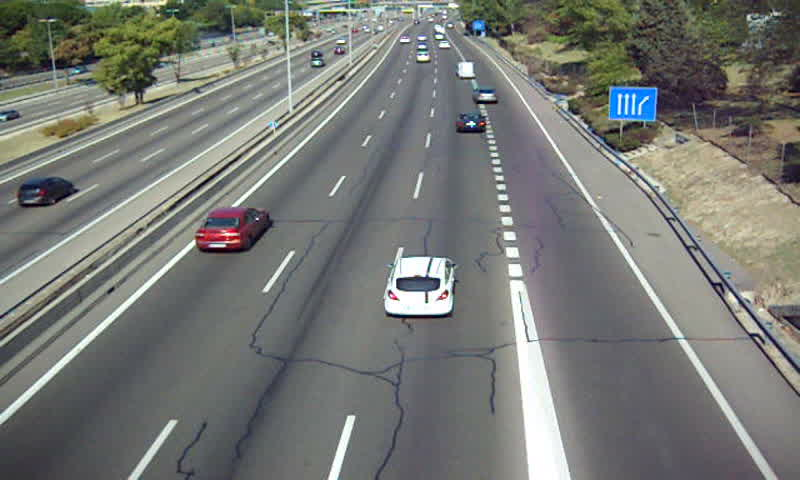car: (384, 256, 453, 316), (195, 207, 270, 252), (455, 112, 488, 134), (473, 87, 498, 104)
van: (457, 61, 475, 78)
